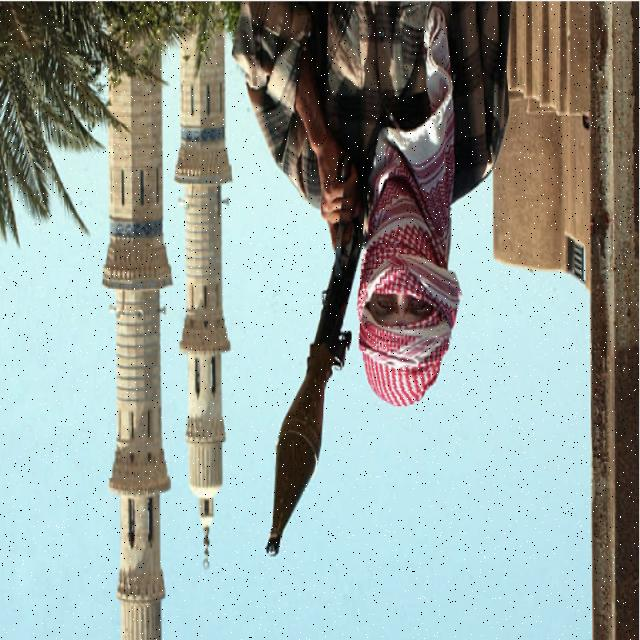bazooka: (262, 79, 393, 566)
